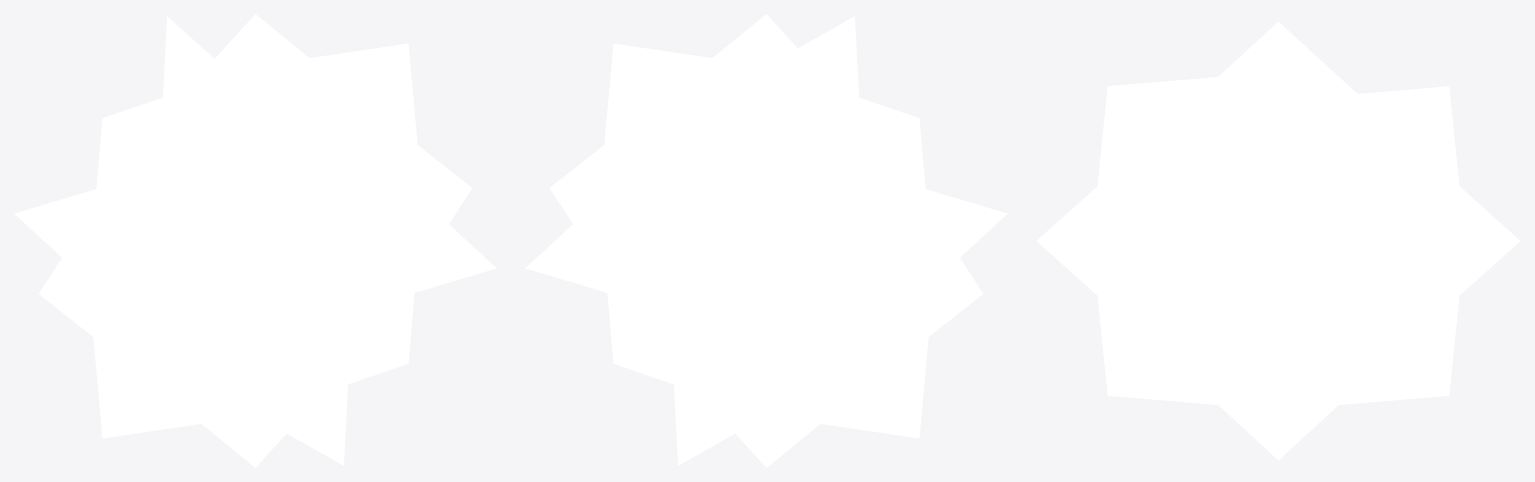
The model's file is blaster9.glb.
3 renders of one model, left to right at view 1: azimuth 30°, elevation 25°; view 2: azimuth 150°, elevation 25°; view 3: azimuth 270°, elevation 25°, orthographic. The views are drawn at different scales.
Parts seen in each view (by area): view 1: group_13; view 2: group_13; view 3: group_13.
Part boxes in pixels (left/top/right/bottom): group_13: left=14, top=14, right=496, bottom=467; group_13: left=525, top=14, right=1007, bottom=467; group_13: left=1037, top=22, right=1519, bottom=459.
Bounding box in the file's own units: 618 × 618 × 618.
1 material, 1 textured.
